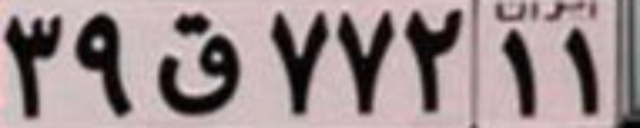1: (563, 26, 602, 118), (500, 27, 537, 118)
2: (406, 7, 458, 113)
3: (5, 13, 64, 116)
7: (267, 9, 329, 113), (336, 7, 393, 115)
9: (72, 11, 132, 115)
ghaf: (156, 13, 240, 112)
